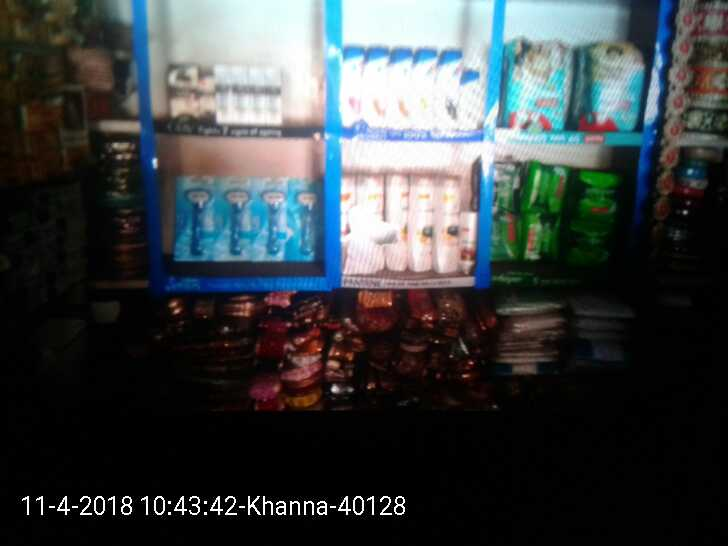venus: (175, 176, 214, 262), (250, 177, 288, 262), (216, 176, 249, 262), (290, 179, 319, 262)
